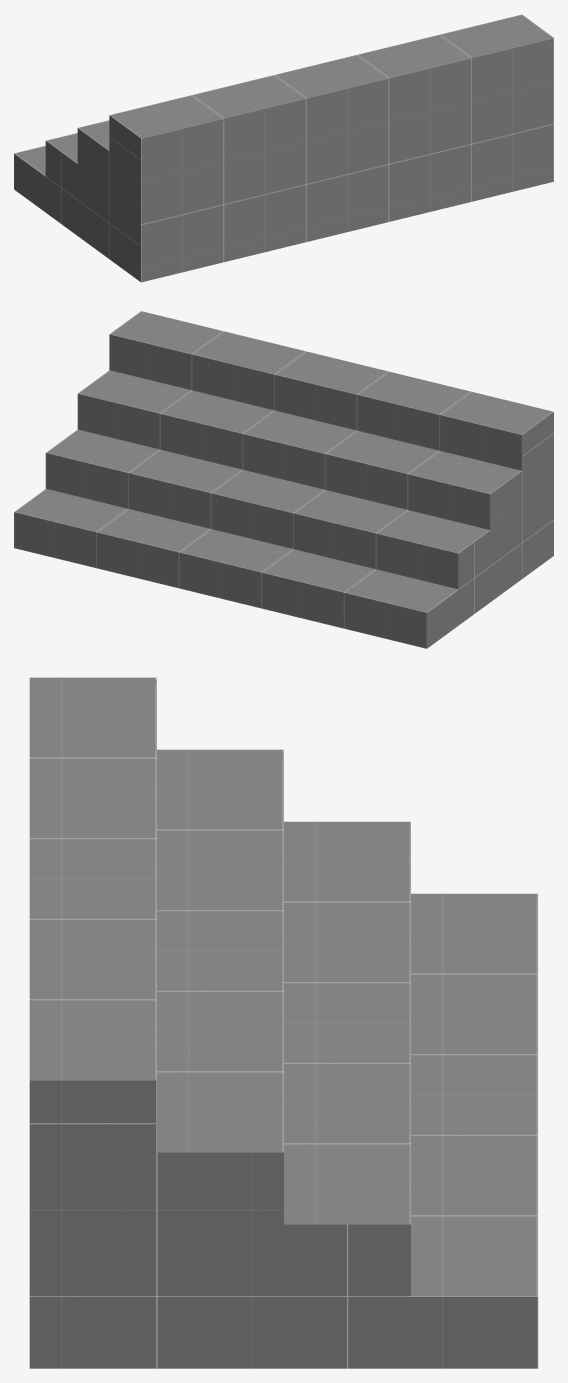
The model's file is Stairs_Box_Small.fbx.
3 views of the same model, one above another, from view 1: azimuth 30°, elevation 25°; view 2: azimuth 150°, elevation 25°; view 3: azimuth 270°, elevation 25° (orthographic). The views are drawn at different scales.
Parts seen in each view (by area): view 1: Stairs_Box_Small; view 2: Stairs_Box_Small; view 3: Stairs_Box_Small.
Boxes of the visible parts, left/top/right/bottom form: Stairs_Box_Small: left=14, top=14, right=553, bottom=282; Stairs_Box_Small: left=14, top=311, right=553, bottom=648; Stairs_Box_Small: left=29, top=677, right=538, bottom=1368.
Bounding box in the file's own units: 7.39 × 2.46 × 3.94.
